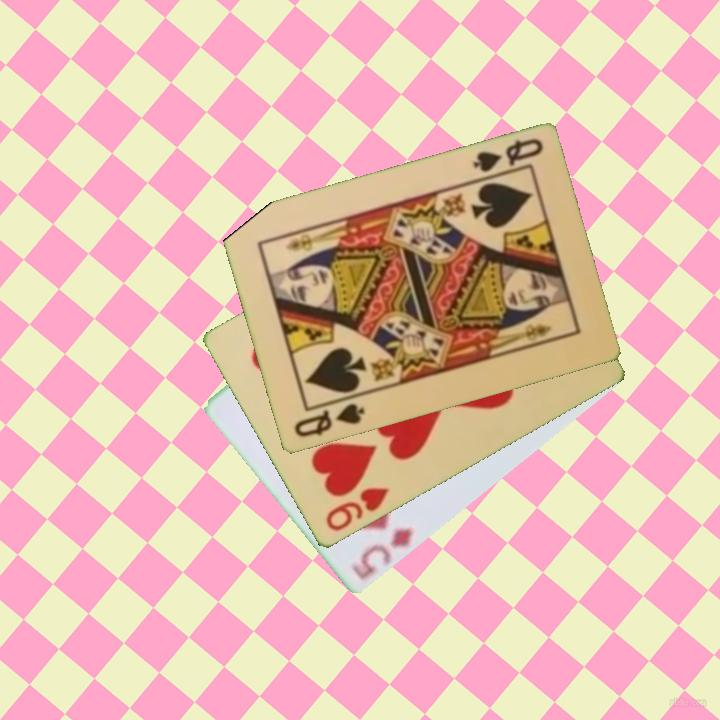5d: (352, 523, 416, 583)
9h: (322, 484, 392, 535)
Qs: (469, 135, 546, 183), (290, 400, 368, 441)
